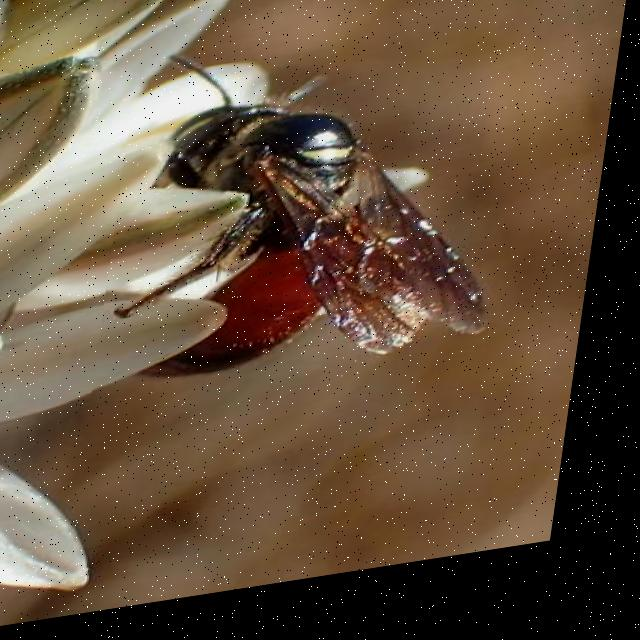Allodapula: (99, 33, 544, 437)
